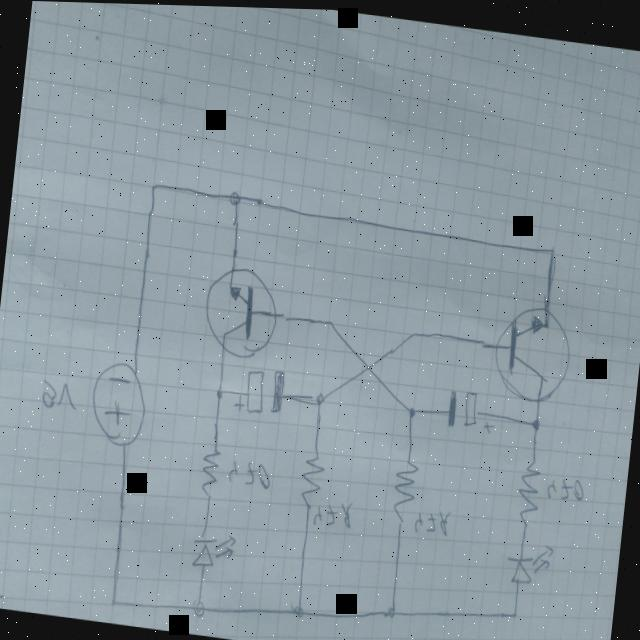capacitor: (233, 361, 288, 417), (442, 384, 497, 434)
crossover: (361, 357, 376, 375)
diode: (502, 534, 556, 586), (186, 525, 238, 574)
junction: (190, 597, 206, 617), (312, 389, 326, 407), (212, 384, 226, 400), (384, 601, 397, 618), (228, 190, 241, 205), (292, 601, 304, 616), (530, 413, 540, 430), (107, 595, 119, 609), (406, 402, 416, 417), (148, 178, 158, 192), (547, 241, 556, 254), (326, 316, 334, 329), (510, 607, 519, 618), (408, 327, 416, 338)
resistor: (388, 449, 421, 525), (296, 439, 328, 517), (196, 434, 224, 505), (515, 457, 541, 523)
source: (86, 358, 151, 452)
text: (226, 454, 275, 490), (311, 493, 357, 530), (38, 375, 80, 412), (412, 503, 454, 536), (546, 472, 584, 501)
transistor: (487, 295, 579, 407), (199, 261, 282, 364)
